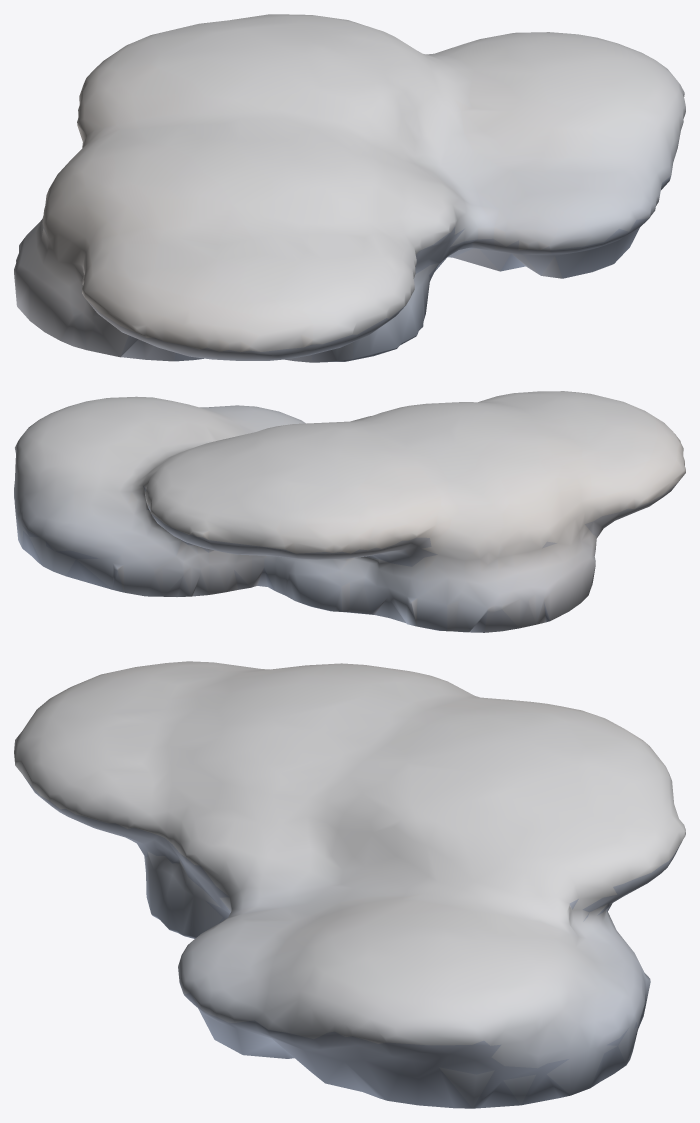
File: CloudD.glb
3 views of the same model, one above another, from view 1: azimuth 30°, elevation 25°; view 2: azimuth 150°, elevation 25°; view 3: azimuth 270°, elevation 25° (orthographic). The views are drawn at different scales.
Visible parts, largest first — view 1: Cloud.003; view 2: Cloud.003; view 3: Cloud.003.
Boxes of the visible parts, left/top/right/bottom form: Cloud.003: left=14, top=14, right=685, bottom=362; Cloud.003: left=14, top=391, right=685, bottom=632; Cloud.003: left=14, top=661, right=685, bottom=1108.
Bounding box in the file's own units: 246 × 62.34 × 199.
